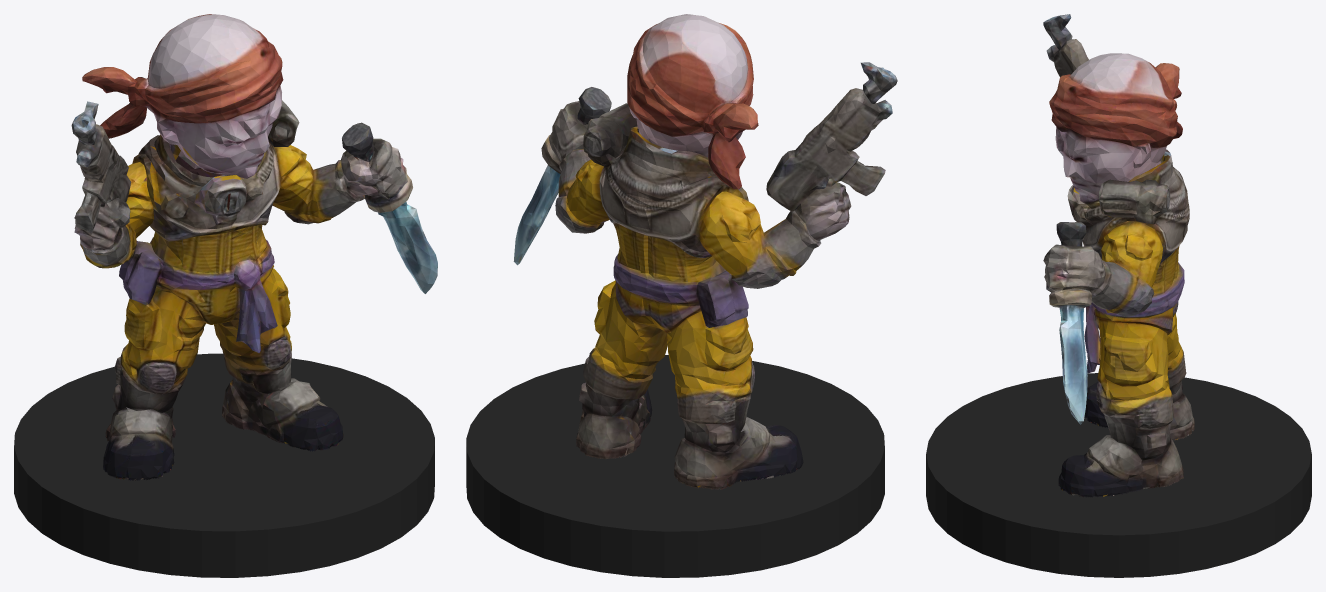
The model's file is neophyte-leader.glb.
3 views of the same model, side by side, from view 1: azimuth 30°, elevation 25°; view 2: azimuth 150°, elevation 25°; view 3: azimuth 270°, elevation 25° (orthographic). The views are drawn at different scales.
Visible parts, largest first — view 1: figure, base; view 2: figure, base; view 3: figure, base.
Part boxes in pixels (x1=…): figure: x1=71, y1=14, x2=437, y2=480; base: x1=14, y1=353, x2=434, y2=577; figure: x1=513, y1=14, x2=897, y2=489; base: x1=466, y1=355, x2=884, y2=577; figure: x1=1043, y1=14, x2=1194, y2=497; base: x1=926, y1=373, x2=1311, y2=577.
Bounding box in the file's own units: 1.01 × 1.22 × 0.9843.
Materials: 2 (1 with a texture image).
